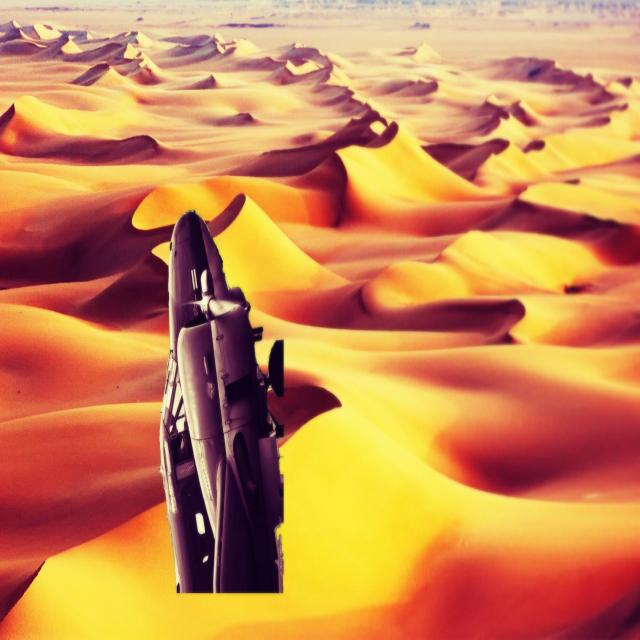airplane: (157, 191, 286, 594)
